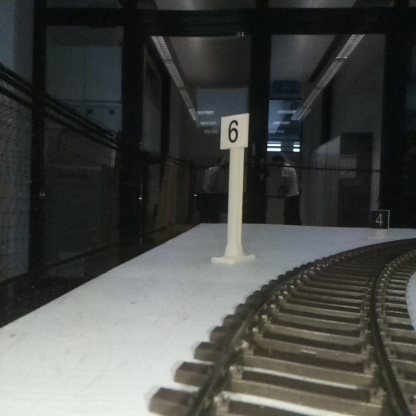black-stop-4: (371, 209, 389, 238)
white-info-6: (220, 113, 248, 259)
